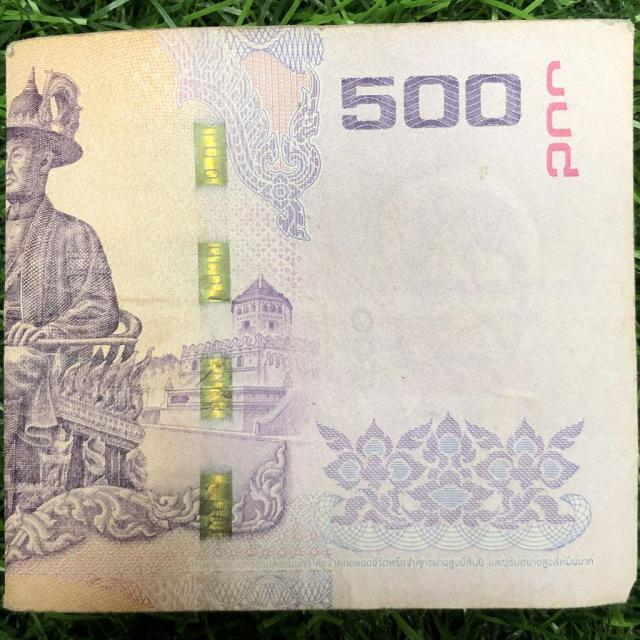THAI500: (0, 18, 639, 619)
